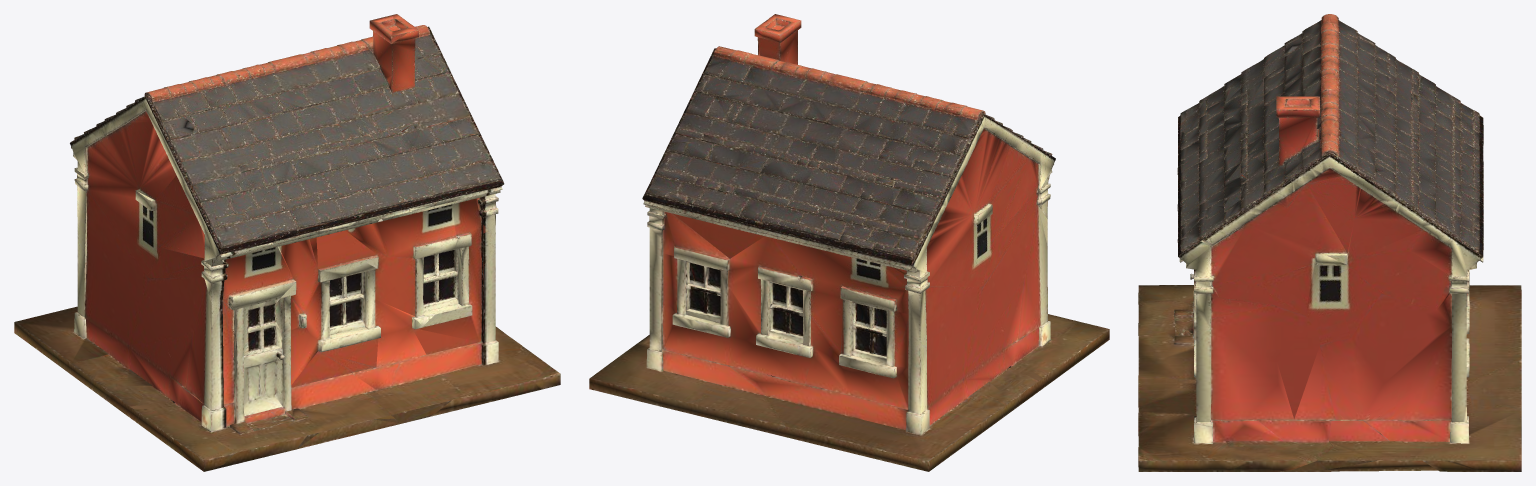
Rendered from arch_house_01.glb.
3 views of the same model, side by side, from view 1: azimuth 30°, elevation 25°; view 2: azimuth 150°, elevation 25°; view 3: azimuth 270°, elevation 25° (orthographic). The views are drawn at different scales.
Parts seen in each view (by area): view 1: output_unwrapped; view 2: output_unwrapped; view 3: output_unwrapped.
Part boxes in pixels (x1,y1,x2,y2): output_unwrapped: [14, 14, 560, 471]; output_unwrapped: [589, 14, 1109, 471]; output_unwrapped: [1138, 14, 1521, 471].
Size of the model in its own units: 5.77 by 5 by 5.32.
Materials: 1 (1 with a texture image).
